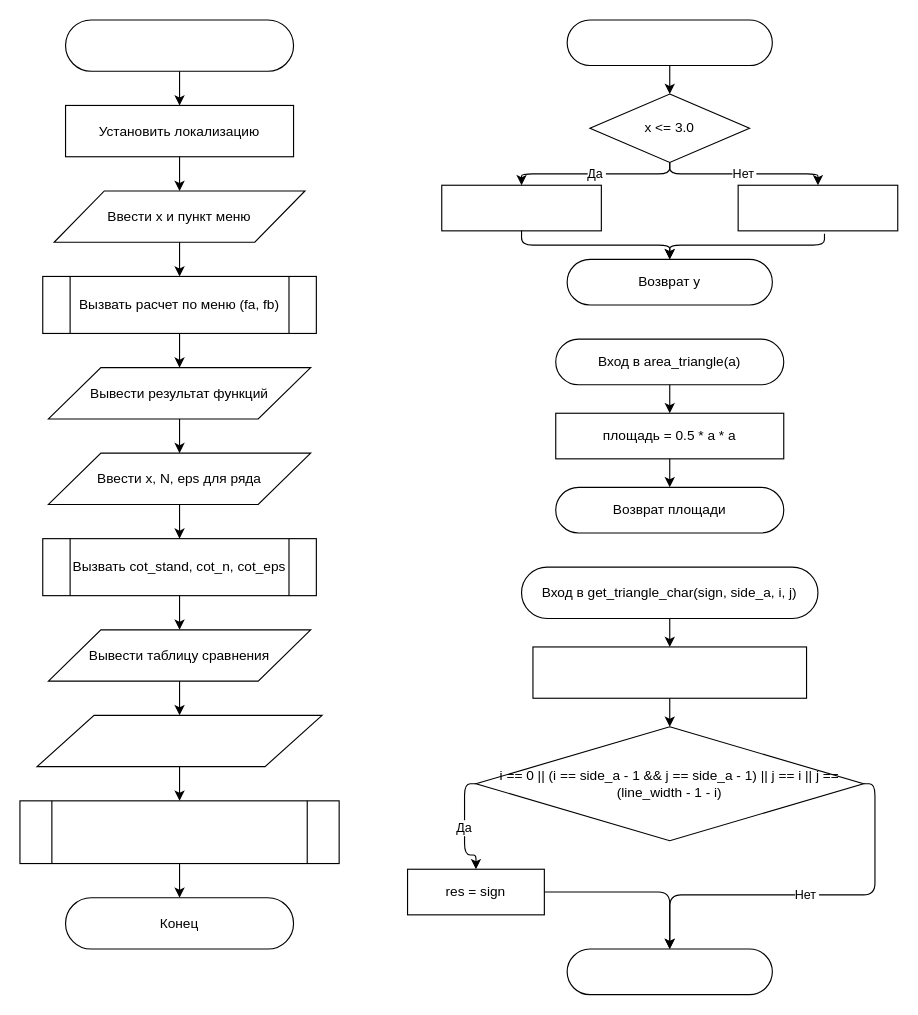
Image size: 918x1015. Some labels were removed from this diagram. Here are the shapes that lost their labels. From the top down, the centre of each, then its label:
At point (179, 45): "Начало".
At point (669, 42): "Вход в fa(x)".
At point (521, 207): "y = x*x - 3*x + 9".
At point (817, 207): "y = 1 / (x*x*x + 3)".
At point (669, 672): "res = ' '; line_width = side_a * 2 - 1".
At point (179, 740): "Ввести выбор и параметры фигуры".
At point (179, 832): "Вызвать area_triangle, вывод инфо или get_triangle_char".
At point (669, 971): "Возврат res".
